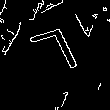L_S: (24, 26, 85, 84)
